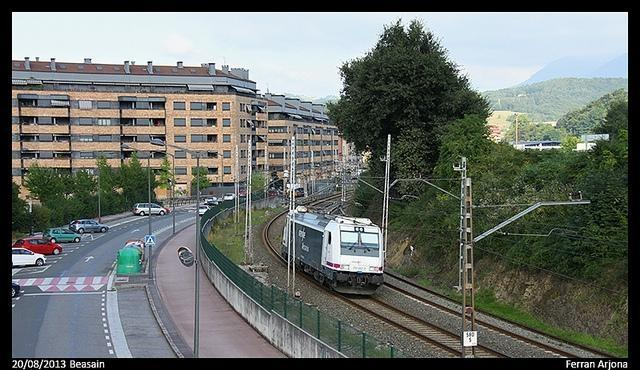car: (15, 238, 62, 254), (69, 218, 110, 234), (42, 228, 82, 244), (12, 249, 44, 266), (132, 202, 169, 216), (199, 204, 212, 215), (202, 198, 218, 206), (224, 192, 238, 200)
